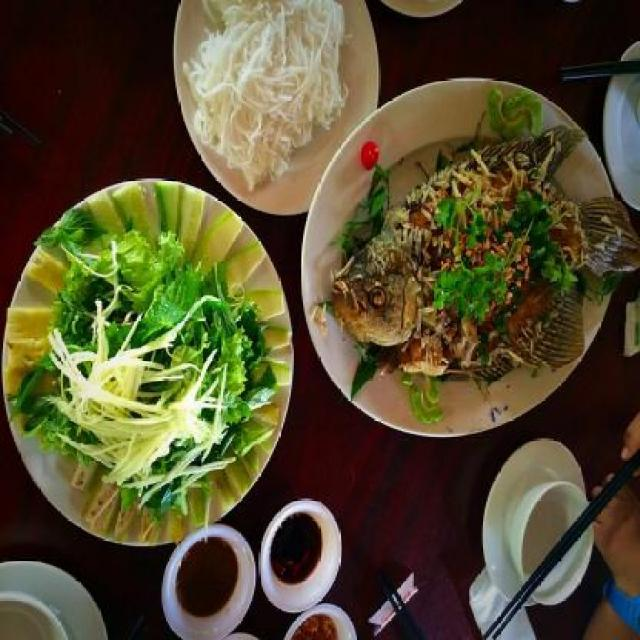Salad: (4, 172, 292, 552)
